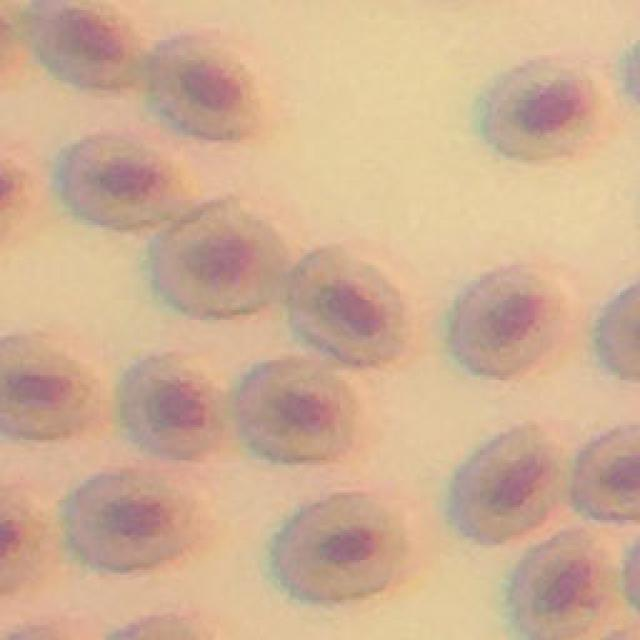RBC: (285, 240, 420, 366), (152, 200, 292, 319), (449, 260, 585, 380), (448, 425, 576, 544), (272, 494, 408, 602), (58, 127, 200, 229), (482, 55, 620, 159), (68, 472, 200, 572), (238, 358, 358, 465), (148, 30, 262, 142), (0, 332, 110, 441), (510, 530, 618, 640), (122, 352, 225, 460), (26, 0, 140, 90), (573, 428, 640, 523)
